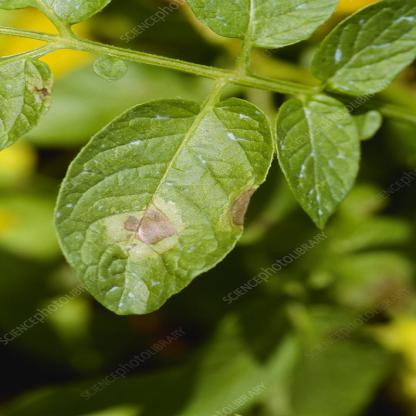potato leaf late blight: (54, 93, 276, 319)
